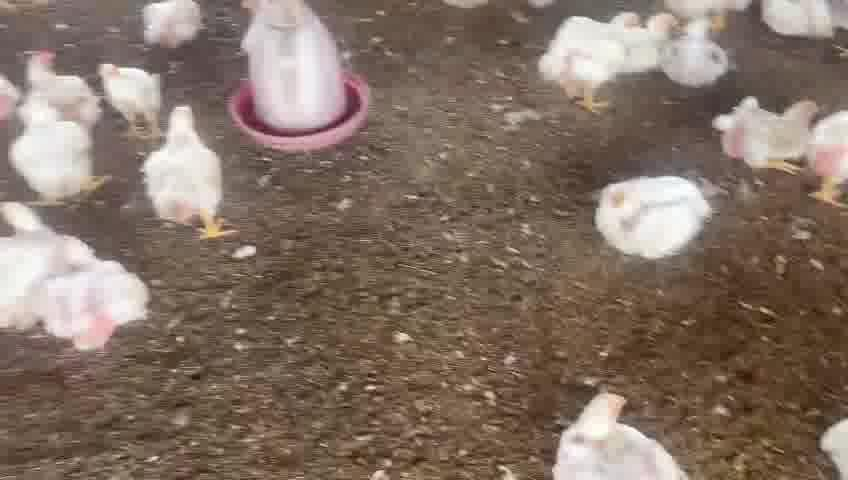AbNormal: (597, 175, 713, 260), (716, 98, 824, 170)
Normal: (138, 101, 232, 235), (545, 11, 641, 113), (13, 96, 99, 205), (99, 59, 163, 134)
